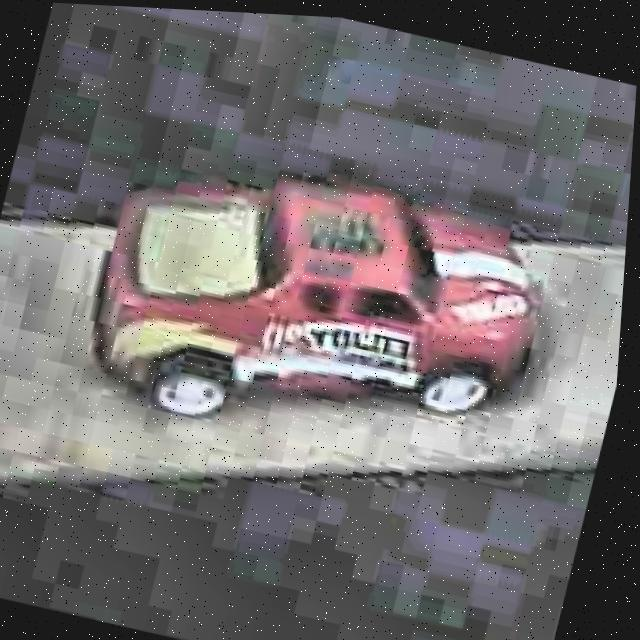car: (57, 120, 574, 497)
